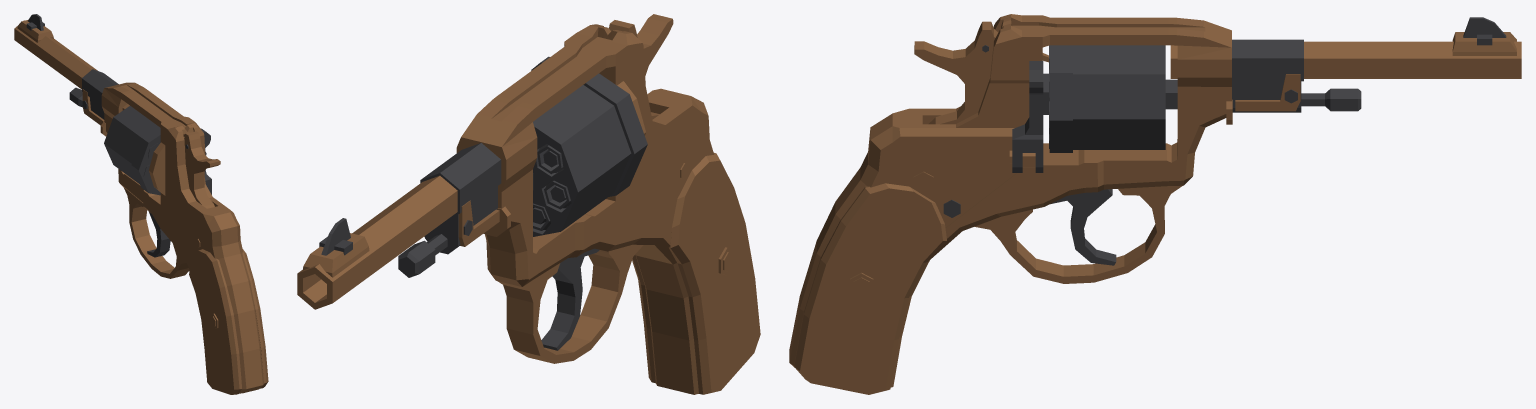
3 renders of one model, left to right at view 1: azimuth 30°, elevation 25°; view 2: azimuth 150°, elevation 25°; view 3: azimuth 270°, elevation 25°, orthographic. The views are drawn at different scales.
Visible parts, largest first — view 1: nagant-m1895; view 2: nagant-m1895; view 3: nagant-m1895.
Boxes of the visible parts, x1,y1,x2,y2 form: nagant-m1895: (14,14,268,394); nagant-m1895: (297,14,760,394); nagant-m1895: (789,14,1521,394).
Bounding box in the file's own units: 0.04 × 0.129 × 0.235.
